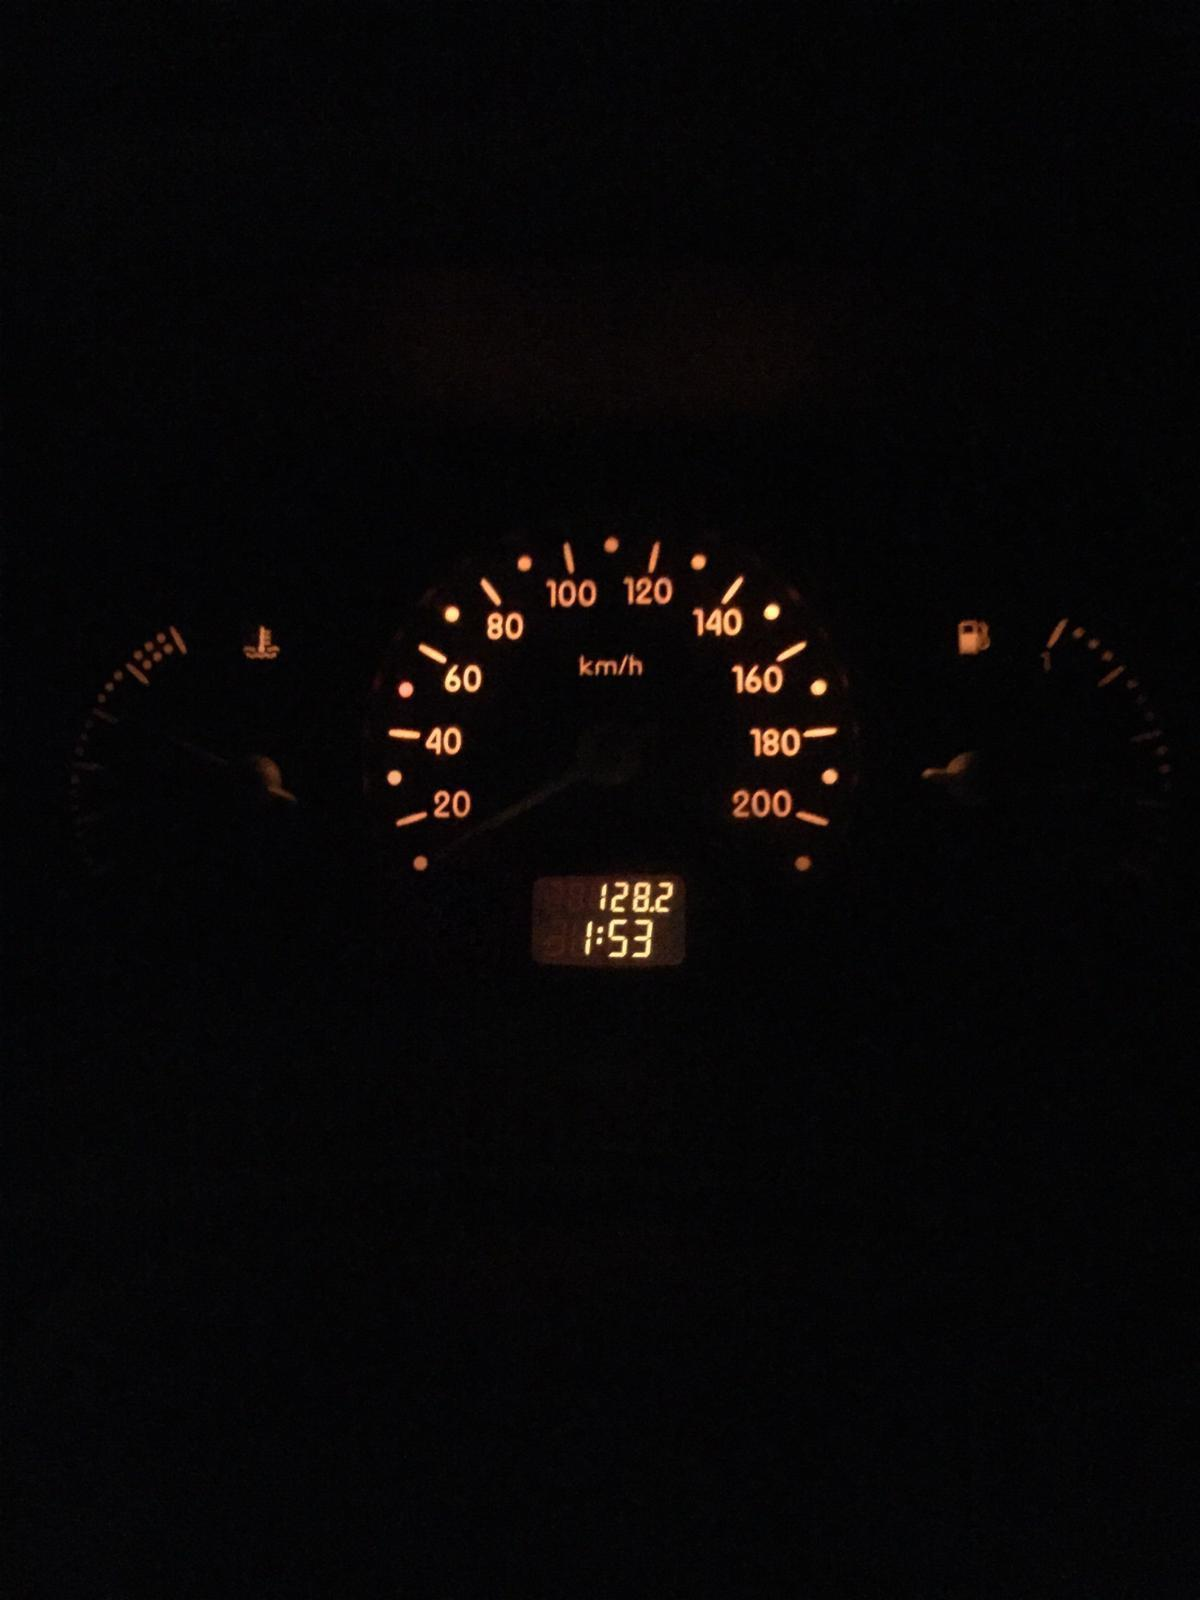,: (649, 905, 654, 913)
1: (584, 918, 592, 957), (599, 883, 608, 911)
2: (654, 881, 673, 913), (610, 881, 629, 912)
3: (630, 918, 653, 957)
5: (608, 918, 628, 957)
8: (632, 881, 650, 913)
X: (595, 925, 604, 945)
odometer: (527, 872, 688, 968)
